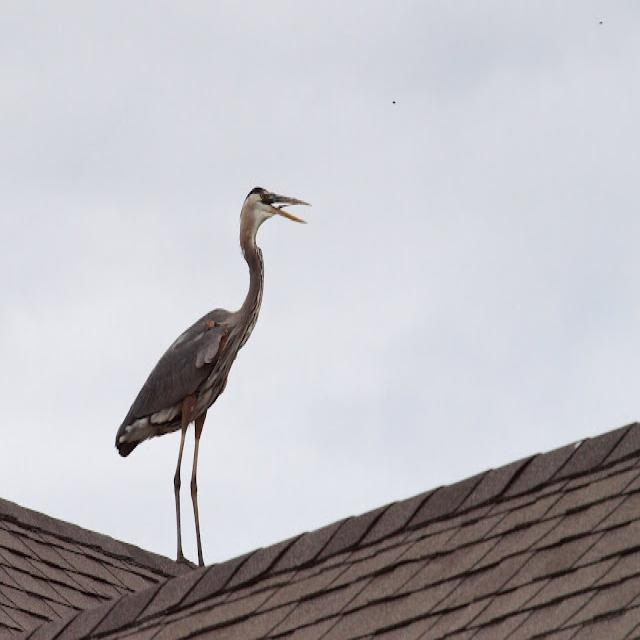bird: (114, 186, 312, 570)
